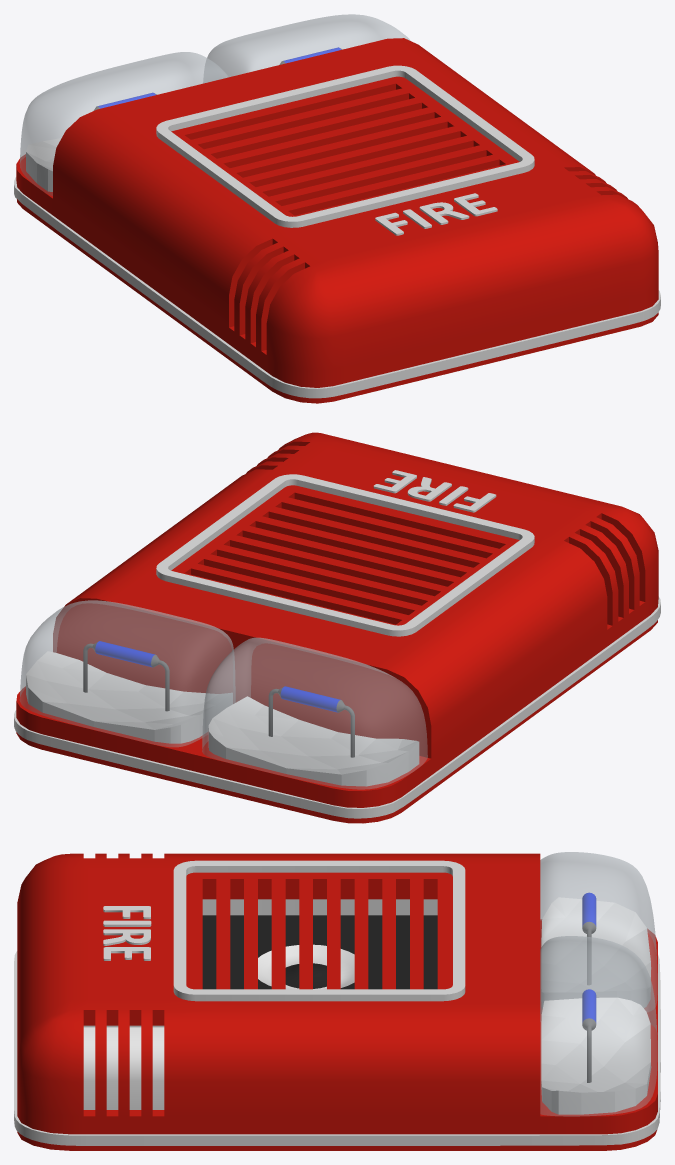
File: fireAlarm.fbx
3 renders of one model, top to bottom at view 1: azimuth 30°, elevation 25°; view 2: azimuth 150°, elevation 25°; view 3: azimuth 270°, elevation 25°, orthographic. The views are drawn at different scales.
Visible parts, largest first — view 1: Fire Alarm V1, Fire Alarm_Glass, Fire Alarm_Case Accents, Fire Alarm_Case Accents_2, FireAlarm_Text, Fire Alarm_Reflectors; view 2: Fire Alarm V1, Fire Alarm_Glass, Fire Alarm_Reflectors, Fire Alarm_Case Accents, Fire Alarm_Case Accents_2, Fire Alarm_Bulbs, FireAlarm_Text; view 3: Fire Alarm V1, Fire Alarm_Glass, Fire Alarm_Reflectors, Fire Alarm_Case Accents, Fire Alarm_Case Accents_2, FireAlarm_Interior, Fire Alarm_Sensors, FireAlarm_Siren, FireAlarm_Text, Fire Alarm_Bulbs.
Boxes of the visible parts, box(x1,y1,x2,y2) form: Fire Alarm V1: box(16, 38, 658, 403); Fire Alarm_Glass: box(19, 14, 410, 195); Fire Alarm_Case Accents: box(156, 65, 534, 227); Fire Alarm_Case Accents_2: box(14, 177, 660, 398); FireAlarm_Text: box(375, 193, 497, 235); Fire Alarm_Reflectors: box(26, 138, 61, 191); Fire Alarm V1: box(16, 432, 658, 823); Fire Alarm_Glass: box(19, 600, 427, 789); Fire Alarm_Reflectors: box(26, 651, 419, 786); Fire Alarm_Case Accents: box(156, 474, 534, 636); Fire Alarm_Case Accents_2: box(14, 596, 660, 818); Fire Alarm_Bulbs: box(83, 641, 354, 757); FireAlarm_Text: box(373, 470, 496, 512); Fire Alarm V1: box(17, 853, 657, 1150); Fire Alarm_Glass: box(540, 852, 657, 1116); Fire Alarm_Reflectors: box(541, 897, 651, 1114); Fire Alarm_Case Accents: box(173, 860, 465, 1001); Fire Alarm_Case Accents_2: box(14, 951, 660, 1145); FireAlarm_Interior: box(202, 915, 437, 989); Fire Alarm_Sensors: box(83, 1025, 164, 1109); FireAlarm_Siren: box(258, 944, 354, 989); FireAlarm_Text: box(103, 906, 151, 960); Fire Alarm_Bulbs: box(582, 892, 596, 1082).
Bounding box in the file's own units: 11.25 × 3.38 × 15.39.
